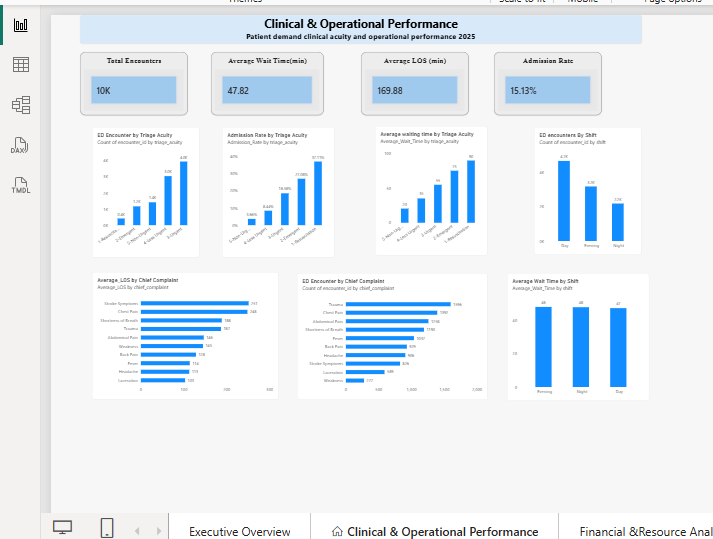

Layout of this report page (visuals, bound fields, positions):
{"tool":"powerbi","page":{"name":"Clinical & Operational Performance","canvas":[3840,2160],"ordinal":1},"visuals":[{"type":"cardVisual","title":"Total Encounters","fields":{"Data":["emergency_department_dataset.Total_Encounters"]},"box":[93.2,118.2,346.2,202.6],"z":0},{"type":"cardVisual","title":"Average Wait Time(min)","fields":{"Data":["emergency_department_dataset.Average_Wait_Time"]},"box":[513.6,118.2,361.5,202.6],"z":1000},{"type":"cardVisual","title":"Average LOS (min)","fields":{"Data":["emergency_department_dataset.Average_LOS"]},"box":[995.5,118.2,346.2,202.6],"z":2000},{"type":"cardVisual","title":"Admission Rate","fields":{"Data":["emergency_department_dataset.Admission_Rate"]},"box":[1425,118.2,346.2,202.6],"z":3000},{"type":"clusteredColumnChart","title":"ED Encounter by Triage Acuity","fields":{"Category":["emergency_department_dataset.triage_acuity"],"Y":["CountNonNull(emergency_department_dataset.encounter_id)"]},"box":[131.8,361.4,345.5,420.5],"z":4000},{"type":"clusteredColumnChart","title":"Admission Rate by Triage Acuity","fields":{"Category":["emergency_department_dataset.triage_acuity"],"Y":["emergency_department_dataset.Admission_Rate"]},"box":[550,361.4,361.4,420.5],"z":5000},{"type":"clusteredColumnChart","title":"Average waiting time by Triage Acuity","fields":{"Category":["emergency_department_dataset.triage_acuity"],"Y":["emergency_department_dataset.Average_Wait_Time"]},"box":[1040.9,356.8,361.4,415.9],"z":6000},{"type":"barChart","title":"Average_LOS by Chief Complaint","fields":{"Category":["emergency_department_dataset.chief_complaint"],"Y":["emergency_department_dataset.Average_LOS"]},"box":[130.8,825.6,600,410.3],"z":7000},{"type":"textbox","box":[92.3,0,1805.1,92.3],"z":8000},{"type":"barChart","title":"ED Encounter by Chief Complaint","fields":{"Category":["emergency_department_dataset.chief_complaint"],"Y":["CountNonNull(emergency_department_dataset.encounter_id)"]},"box":[789.7,828.2,612.8,407.7],"z":9000},{"type":"clusteredColumnChart","title":"Average Wait Time by Shift","fields":{"Category":["emergency_department_dataset.shift"],"Y":["emergency_department_dataset.Average_Wait_Time"]},"box":[1464.1,828.2,456.8,411.4],"z":10000},{"type":"columnChart","title":"ED encounters By Shift","fields":{"Category":["emergency_department_dataset.shift"],"Y":["CountNonNull(emergency_department_dataset.encounter_id)"]},"box":[1552.3,361.4,345.5,411.4],"z":11000}]}

Visuals, with their boxes on the page's 3840x2160 design canvas (x1, y1, x2, y2). These are canvas units, not pixel positions in the 713x539 screenshot, which may show the page scaled, cropped or inside an application window:
"Total Encounters" cardVisual: region(93, 118, 439, 321)
"Average Wait Time(min)" cardVisual: region(514, 118, 875, 321)
"Average LOS (min)" cardVisual: region(996, 118, 1342, 321)
"Admission Rate" cardVisual: region(1425, 118, 1771, 321)
"ED Encounter by Triage Acuity" clusteredColumnChart: region(132, 361, 477, 782)
"Admission Rate by Triage Acuity" clusteredColumnChart: region(550, 361, 911, 782)
"Average waiting time by Triage Acuity" clusteredColumnChart: region(1041, 357, 1402, 773)
"Average_LOS by Chief Complaint" barChart: region(131, 826, 731, 1236)
textbox: region(92, 0, 1897, 92)
"ED Encounter by Chief Complaint" barChart: region(790, 828, 1402, 1236)
"Average Wait Time by Shift" clusteredColumnChart: region(1464, 828, 1921, 1240)
"ED encounters By Shift" columnChart: region(1552, 361, 1898, 773)
